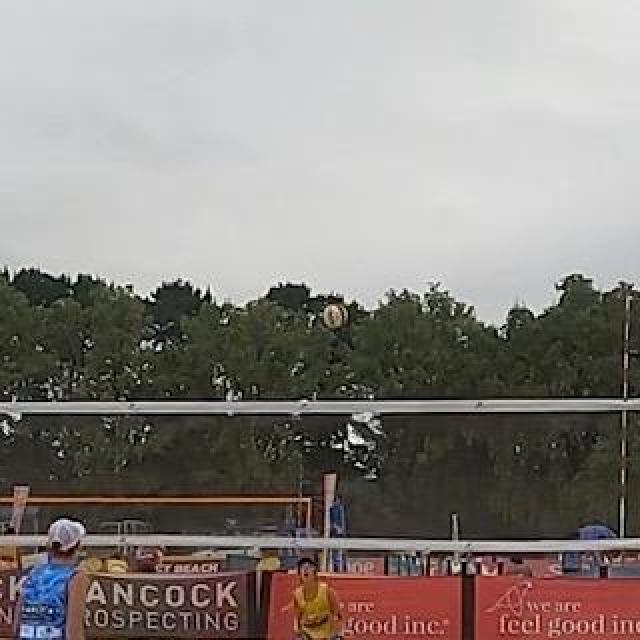volleyball: (325, 305, 347, 327)
